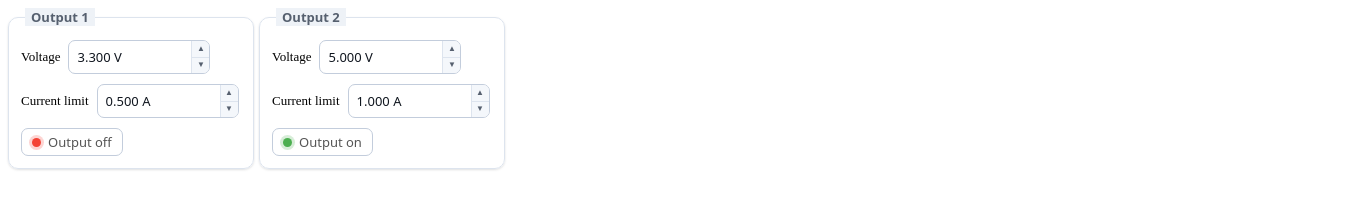
it: PsuPanel › reconciles the toggle to server truth after a failed enable request
The image size is (1366, 223).
Click the switch named "Output 1 enable": click(72, 142) [21,128,123,156]
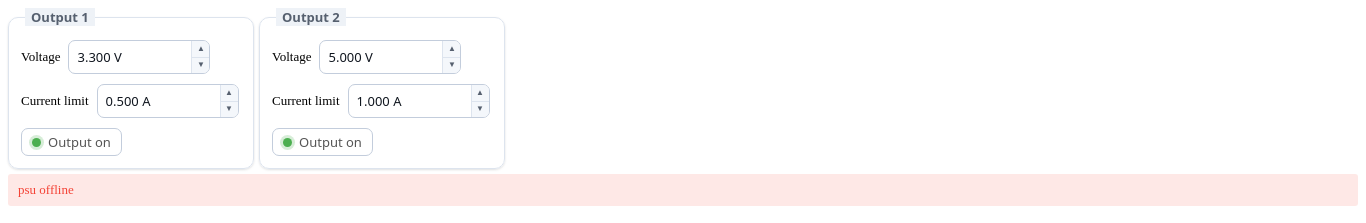
Now the switch named "Output 1 enable" is checked, box [21,128,122,156]
Now the message "psu offline" is shown, box [8,174,1358,206]
